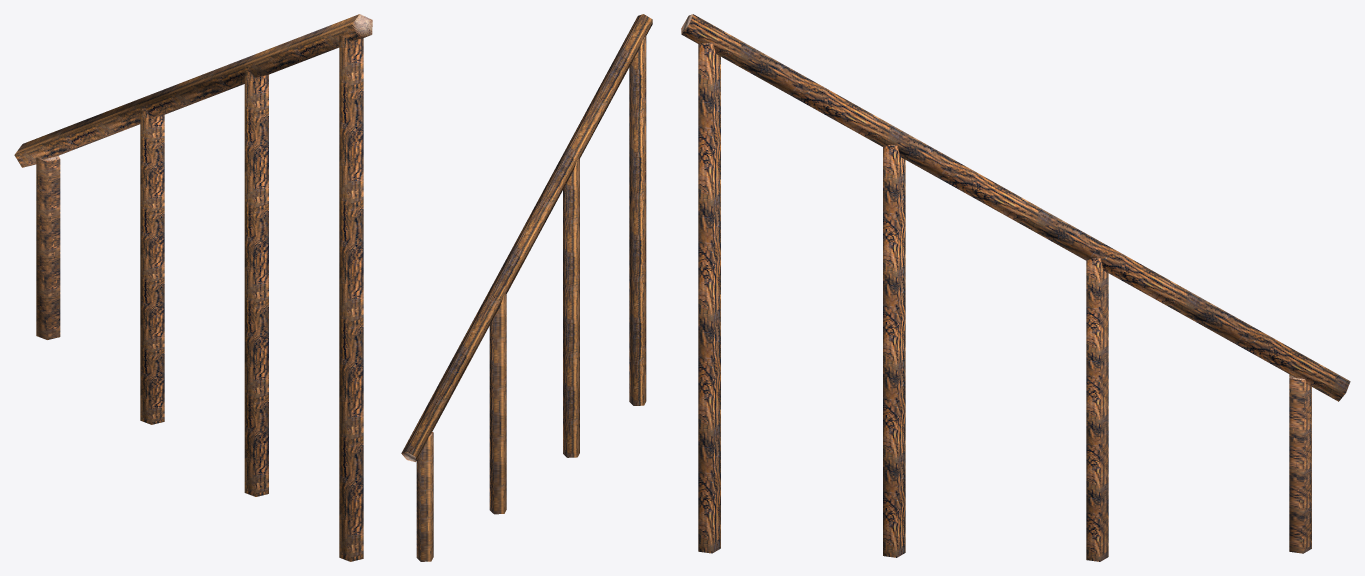
The model's file is dock_rail2.fbx.
3 views of the same model, side by side, from view 1: azimuth 30°, elevation 25°; view 2: azimuth 150°, elevation 25°; view 3: azimuth 270°, elevation 25° (orthographic). The views are drawn at different scales.
Parts seen in each view (by area): view 1: dock_railing2; view 2: dock_railing2; view 3: dock_railing2.
Boxes of the visible parts, x1,y1,x2,y2 form: dock_railing2: [14, 14, 372, 561]; dock_railing2: [401, 14, 652, 561]; dock_railing2: [681, 14, 1350, 561].
Bounding box in the file's own units: 12.27 × 309 × 346.
1 material, 1 textured.
